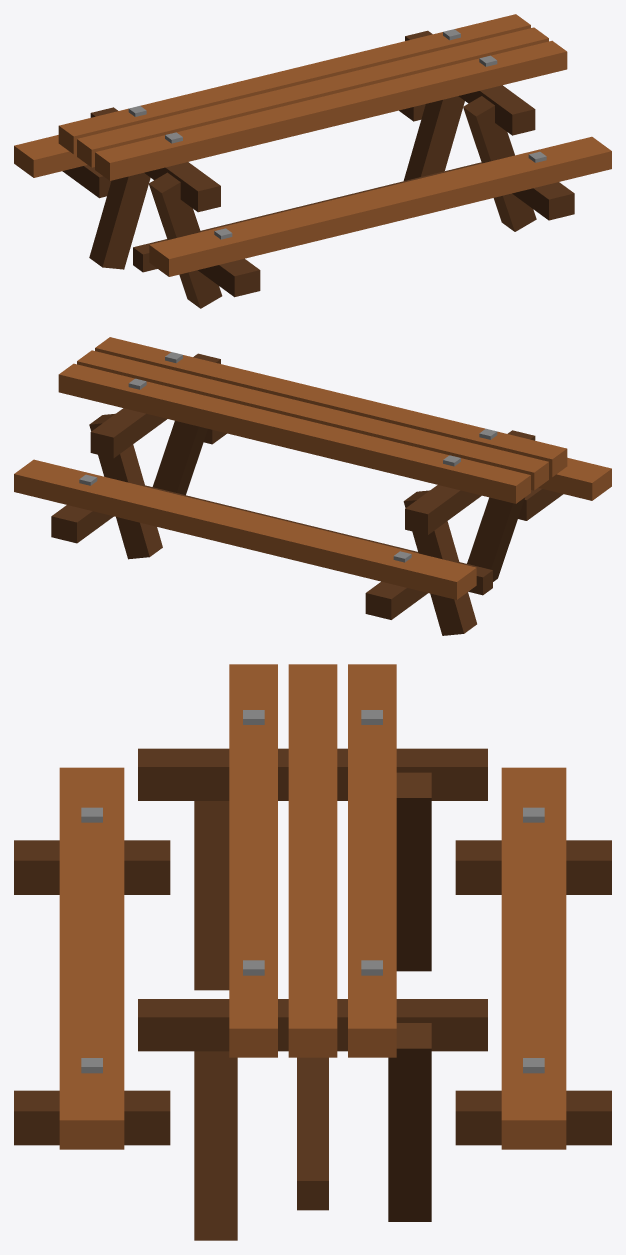
The model's file is picnic_table.obj.
3 renders of one model, top to bottom at view 1: azimuth 30°, elevation 25°; view 2: azimuth 150°, elevation 25°; view 3: azimuth 270°, elevation 25°, orthographic. The views are drawn at different scales.
Visible parts, largest first — view 1: bench_board_far, tabletop_board_right, tabletop_board_mid, tabletop_board_left, leg_near_-1.1, leg_far_-1.1, leg_far_1.1, leg_near_1.1, under_table_cross_left, under_table_cross_right, bench_board_near, bench_support_far_left (+3 smaller); view 2: bench_board_near, tabletop_board_left, tabletop_board_mid, tabletop_board_right, leg_near_-1.1, leg_near_1.1, leg_far_-1.1, leg_far_1.1, under_table_cross_right, under_table_cross_left, bench_board_far, bench_support_near_left (+3 smaller); view 3: bench_board_near, bench_board_far, tabletop_board_mid, tabletop_board_left, tabletop_board_right, under_table_cross_left, under_table_cross_right, leg_near_1.1, leg_far_1.1, leg_near_-1.1, leg_far_-1.1, bench_support_near_right (+4 smaller).
Boxes of the visible parts, left/top/right/bottom form: bench_board_far: left=149, top=136, right=611, bottom=276; tabletop_board_right: left=95, top=40, right=567, bottom=180; tabletop_board_mid: left=77, top=27, right=548, bottom=167; tabletop_board_left: left=58, top=14, right=530, bottom=154; leg_near_-1.1: left=89, top=173, right=150, bottom=269; leg_far_-1.1: left=148, top=172, right=222, bottom=308; leg_far_1.1: left=463, top=96, right=536, bottom=231; leg_near_1.1: left=403, top=96, right=464, bottom=180; under_table_cross_left: left=90, top=107, right=220, bottom=212; under_table_cross_right: left=405, top=30, right=535, bottom=135; bench_board_near: left=14, top=135, right=87, bottom=177; bench_support_far_left: left=198, top=258, right=260, bottom=297; bench_board_near: left=14, top=459, right=476, bottom=599; tabletop_board_left: left=58, top=363, right=530, bottom=503; tabletop_board_mid: left=77, top=350, right=548, bottom=490; tabletop_board_right: left=95, top=337, right=567, bottom=477; leg_near_-1.1: left=403, top=490, right=476, bottom=635; leg_near_1.1: left=89, top=413, right=162, bottom=559; leg_far_-1.1: left=467, top=497, right=524, bottom=581; leg_far_1.1: left=152, top=421, right=207, bottom=495; under_table_cross_right: left=90, top=353, right=220, bottom=458; under_table_cross_left: left=405, top=430, right=535, bottom=534; bench_board_far: left=538, top=457, right=611, bottom=500; bench_support_near_left: left=365, top=581, right=427, bottom=619; bench_board_near: left=501, top=767, right=566, bottom=1149; bench_board_far: left=59, top=767, right=124, bottom=1149; tabletop_board_mid: left=288, top=664, right=337, bottom=1057; tabletop_board_left: left=348, top=664, right=396, bottom=1057; tabletop_board_right: left=229, top=664, right=277, bottom=1057; under_table_cross_left: left=138, top=748, right=487, bottom=800; under_table_cross_right: left=138, top=999, right=487, bottom=1051; leg_near_1.1: left=388, top=1023, right=431, bottom=1221; leg_far_1.1: left=194, top=1051, right=237, bottom=1240; leg_near_-1.1: left=396, top=772, right=431, bottom=971; leg_far_-1.1: left=194, top=801, right=229, bottom=990; bench_support_near_right: left=455, top=1090, right=611, bottom=1145.
Bounding box in the file's own units: 3.2 × 1.08 × 2.22.
